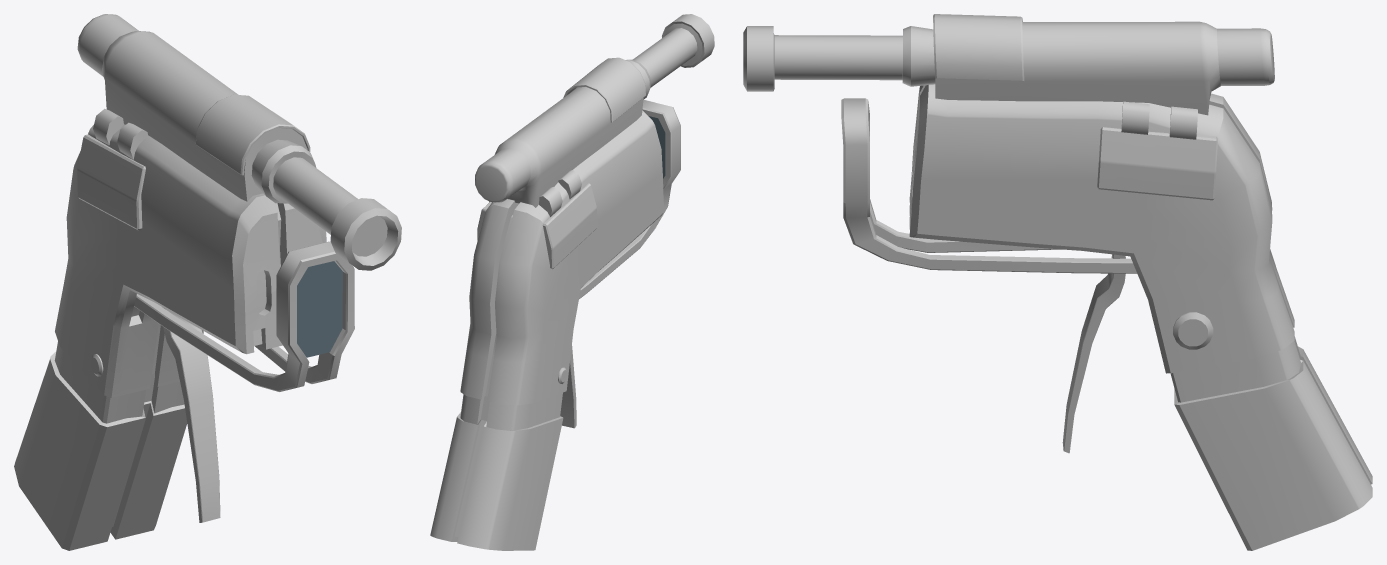
File: PistoscanBaseColor.fbx
3 renders of one model, left to right at view 1: azimuth 30°, elevation 25°; view 2: azimuth 150°, elevation 25°; view 3: azimuth 270°, elevation 25°, orthographic. The views are drawn at different scales.
Visible parts, largest first — view 1: MESH_Gun, MESH_Canon, MESH_Crosshair, MESH_Gachette, MESH_Crosshaire_glass; view 2: MESH_Gun, MESH_Canon, MESH_Crosshair, MESH_Gachette, MESH_Crosshaire_glass; view 3: MESH_Gun, MESH_Canon, MESH_Crosshair, MESH_Gachette.
Boxes of the visible parts, left/top/right/bottom form: MESH_Gun: left=14, top=108, right=326, bottom=550; MESH_Canon: left=77, top=14, right=401, bottom=270; MESH_Crosshair: left=134, top=241, right=354, bottom=391; MESH_Gachette: left=162, top=307, right=220, bottom=522; MESH_Crosshaire_glass: left=297, top=261, right=342, bottom=357; MESH_Gun: left=430, top=110, right=664, bottom=550; MESH_Canon: left=475, top=14, right=714, bottom=207; MESH_Crosshair: left=579, top=100, right=680, bottom=298; MESH_Gachette: left=560, top=345, right=576, bottom=428; MESH_Crosshaire_glass: left=648, top=116, right=665, bottom=178; MESH_Gun: left=909, top=84, right=1372, bottom=550; MESH_Canon: left=743, top=14, right=1274, bottom=115; MESH_Crosshair: left=841, top=98, right=1136, bottom=273; MESH_Gachette: left=1062, top=254, right=1125, bottom=453.
Size of the model in its own units: 3.6 by 17.74 by 19.67.
